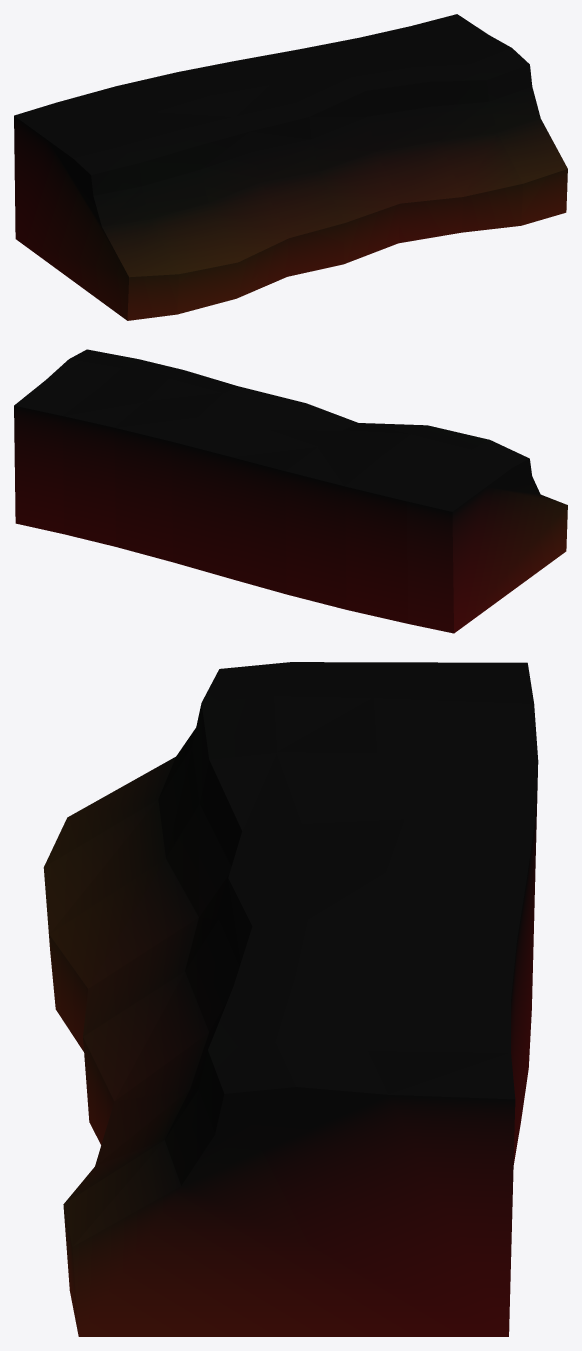
The model's file is SM_ShoreBank_Straight_01.fbx.
3 renders of one model, top to bottom at view 1: azimuth 30°, elevation 25°; view 2: azimuth 150°, elevation 25°; view 3: azimuth 270°, elevation 25°, orthographic. The views are drawn at different scales.
Visible parts, largest first — view 1: SM_ShoreBank_Straight_01; view 2: SM_ShoreBank_Straight_01; view 3: SM_ShoreBank_Straight_01.
Boxes of the visible parts, x1,y1,x2,y2 form: SM_ShoreBank_Straight_01: (14, 14, 567, 320); SM_ShoreBank_Straight_01: (14, 349, 567, 633); SM_ShoreBank_Straight_01: (43, 662, 538, 1336).
Size of the model in its own units: 4 by 1.95 by 1.15.
